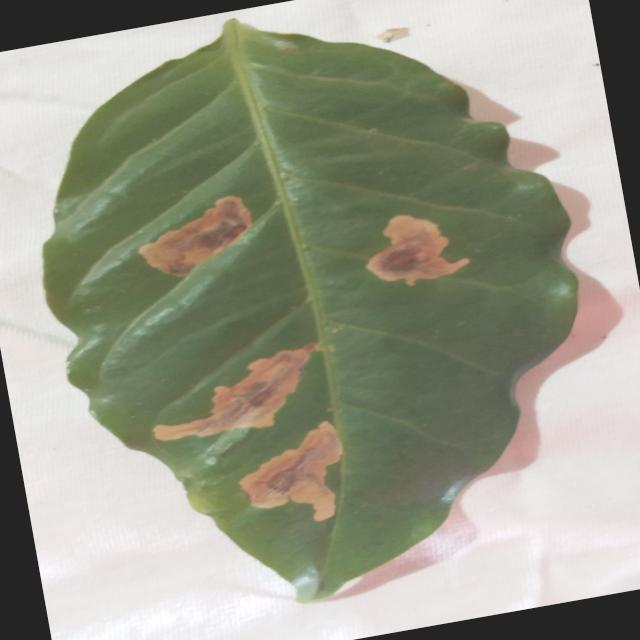KaratDaunKopi: (154, 343, 316, 440), (239, 421, 342, 520), (138, 195, 251, 276), (366, 214, 469, 285)
